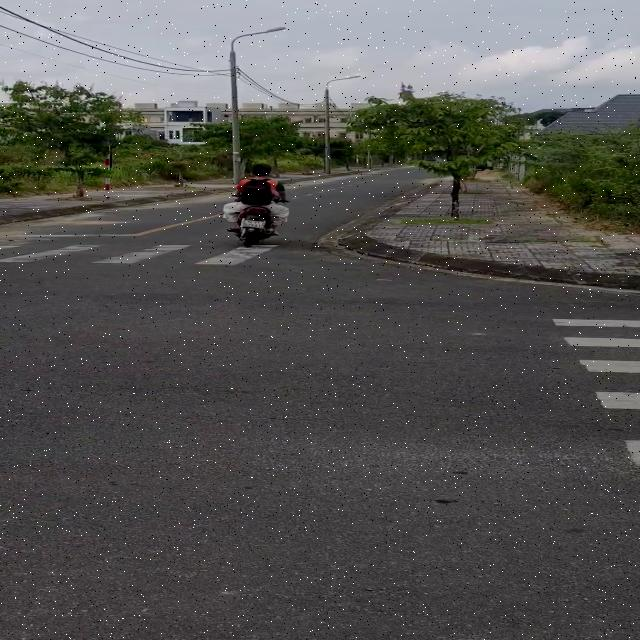no_helmet: (249, 165, 280, 182)
